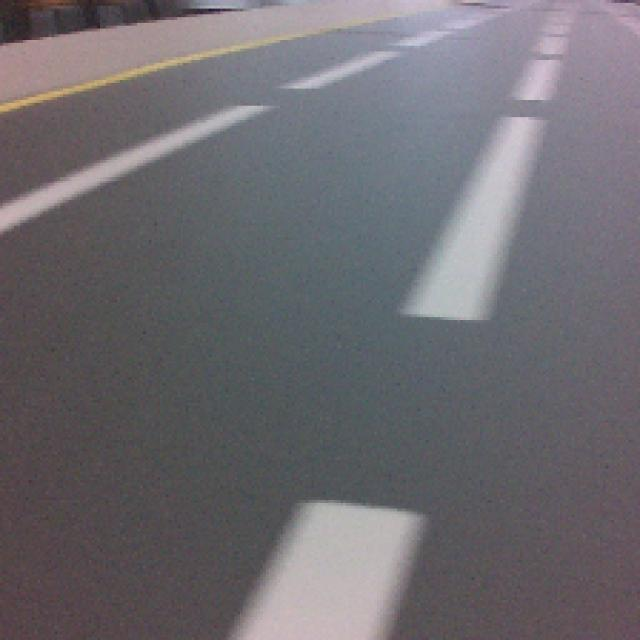Guard rail: (237, 504, 424, 638)
